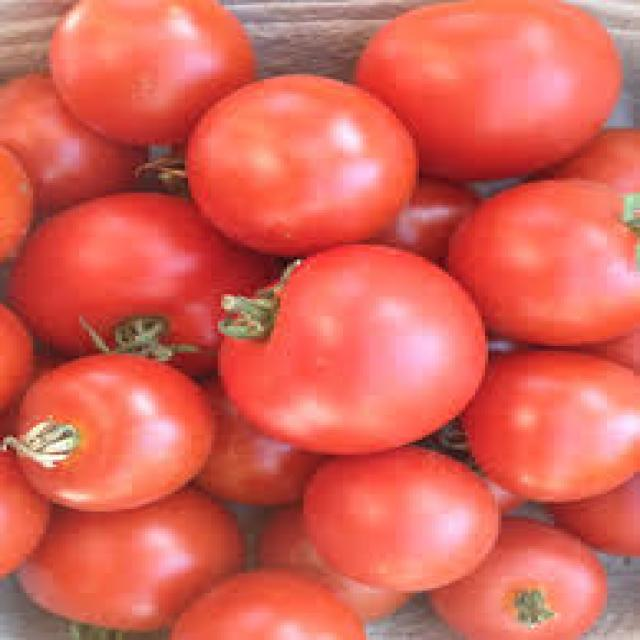Fresh_tomato: (248, 251, 488, 437), (368, 4, 640, 162), (28, 203, 240, 363), (65, 0, 244, 134), (23, 375, 214, 491), (299, 458, 472, 580), (490, 520, 607, 636)
